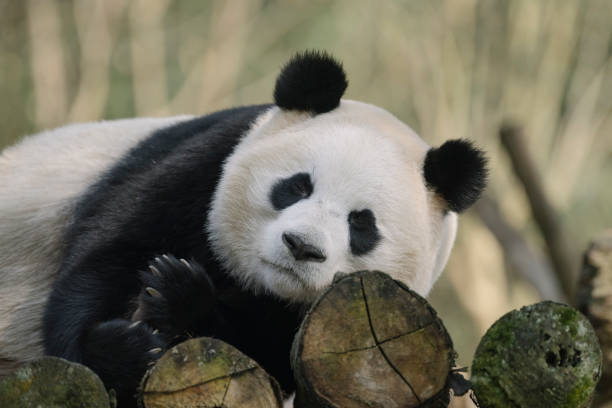panda: (193, 40, 482, 333)
